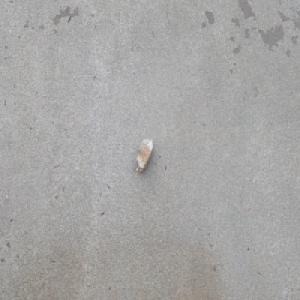Rock: (134, 138, 153, 173)
